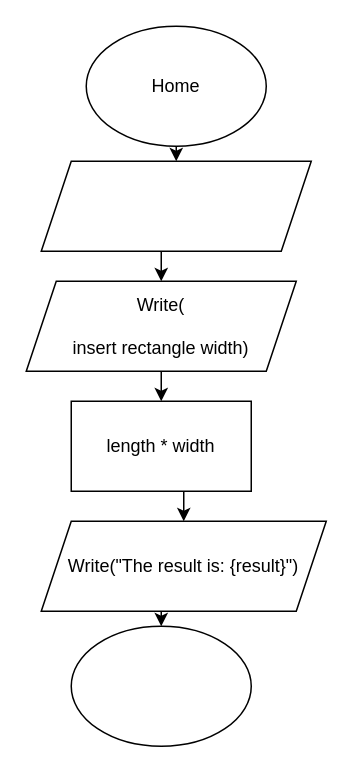
The diagram is 353 pixels wide and 773 high, and some of its shapes have lost their labels. Each missing label, with the box of its shape:
End: (70, 625, 251, 746)
Write( insert length of rectangle ): (40, 160, 311, 251)
